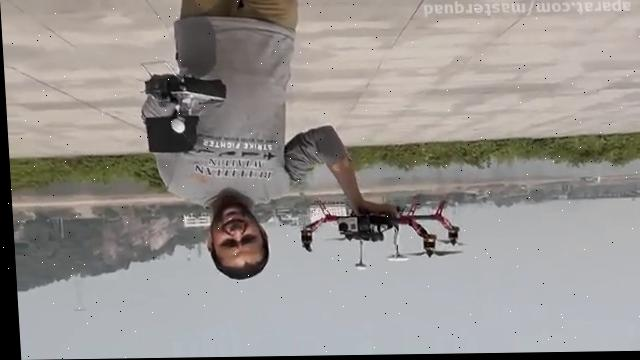drone: (292, 200, 473, 275)
